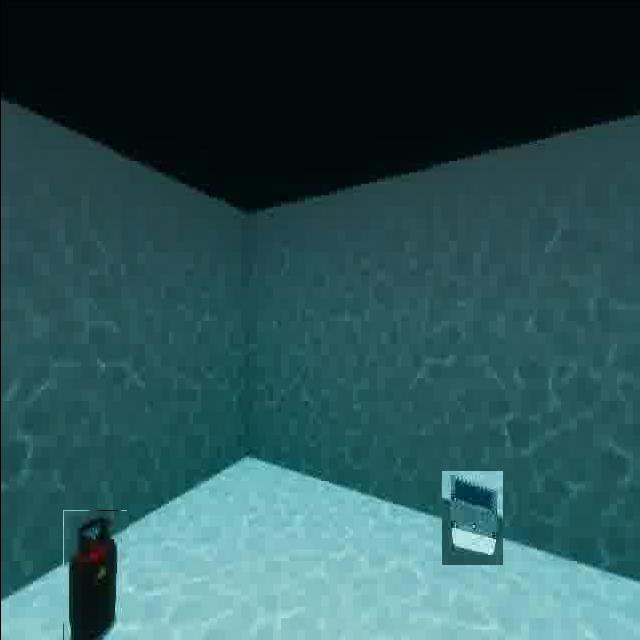Cylinder: (62, 509, 126, 640)
Docking Station: (441, 470, 502, 564)
